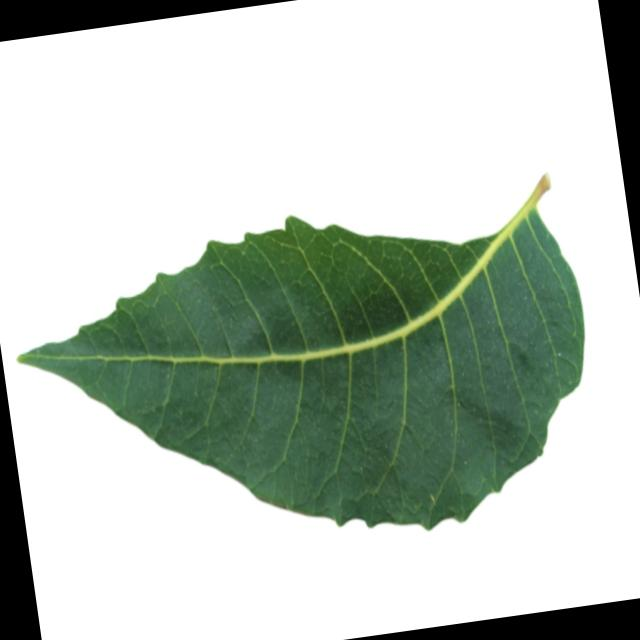Medicinal-Neem: (0, 163, 611, 583)
